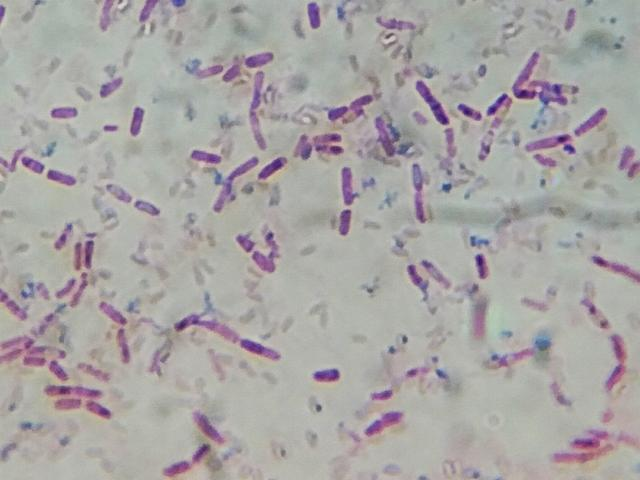E. coli: (175, 312, 232, 345), (591, 250, 640, 279), (416, 81, 446, 123), (572, 104, 609, 137), (363, 410, 405, 438), (579, 299, 615, 330), (491, 345, 535, 369), (1, 285, 32, 319), (243, 338, 282, 365), (557, 446, 612, 465), (245, 104, 268, 146), (94, 298, 131, 323), (111, 327, 136, 364), (44, 383, 105, 397), (378, 12, 417, 33), (420, 257, 451, 283), (473, 296, 491, 340), (107, 181, 134, 209), (374, 117, 394, 153), (605, 330, 627, 362), (191, 411, 218, 437), (229, 155, 255, 182), (95, 77, 131, 96), (527, 135, 572, 150), (247, 47, 280, 67), (531, 79, 581, 92), (411, 186, 427, 226), (340, 162, 355, 204), (259, 156, 284, 181), (601, 361, 625, 387), (165, 459, 194, 480), (49, 167, 79, 187), (475, 252, 494, 283), (441, 128, 461, 157), (188, 147, 219, 165), (128, 107, 147, 136), (315, 367, 342, 387), (315, 129, 345, 147), (24, 154, 46, 178), (192, 441, 214, 465), (137, 197, 162, 218), (253, 248, 274, 273), (28, 344, 65, 358), (48, 107, 82, 122), (87, 395, 109, 418), (533, 154, 557, 175), (198, 60, 223, 80), (336, 206, 352, 237), (84, 235, 99, 268), (308, 0, 325, 29), (68, 282, 87, 307), (101, 0, 114, 36), (522, 52, 540, 78), (75, 361, 104, 377), (252, 69, 266, 102), (54, 221, 74, 244), (458, 101, 478, 124), (2, 345, 22, 368), (225, 60, 243, 85), (143, 0, 160, 25), (71, 239, 85, 269), (370, 384, 393, 402), (403, 263, 421, 286), (215, 183, 229, 212), (583, 427, 612, 441), (548, 383, 564, 408), (616, 141, 631, 167), (56, 399, 83, 413), (624, 155, 639, 180), (2, 332, 27, 347), (56, 275, 73, 297), (519, 296, 542, 312), (489, 91, 506, 112), (49, 357, 66, 377), (331, 100, 349, 118), (297, 134, 311, 157), (235, 233, 252, 251), (542, 94, 567, 106), (571, 439, 596, 451), (318, 144, 342, 156), (353, 93, 372, 108), (25, 352, 45, 366), (565, 8, 578, 28), (104, 120, 121, 135), (412, 162, 423, 185), (516, 86, 532, 100)
